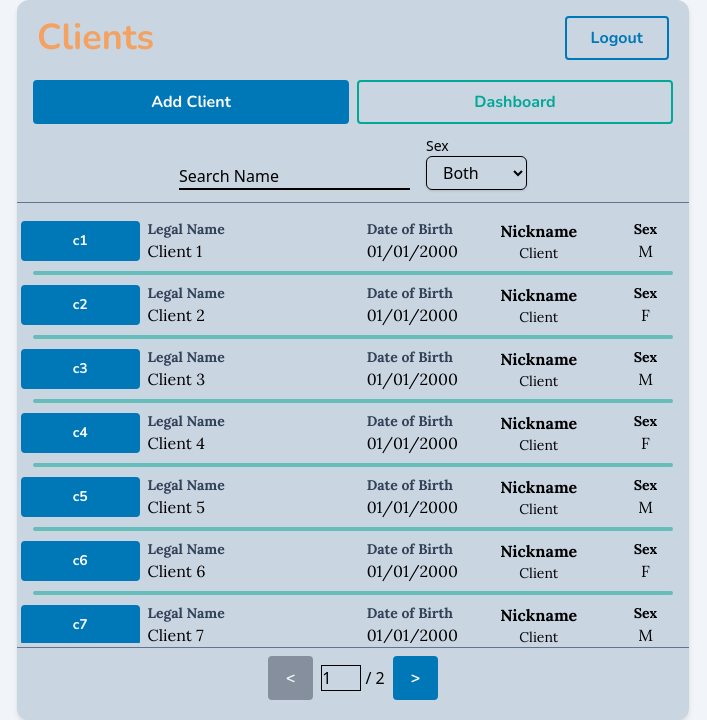
Test: View Clients List Page tests › Sex Filter tests › should filter based upon the sex filter dropdown
Expected: the button with test id "pagination-next" is shown, [393, 656, 438, 700]
Select "Female" in the dropdown showing "Both" at (476, 173), box [426, 156, 527, 190]
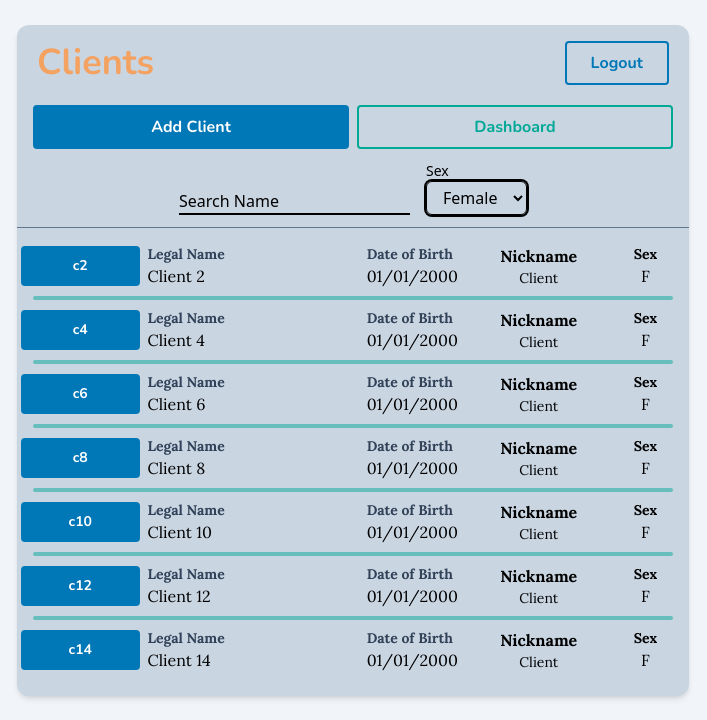
Expected: the text "Client 2" is shown, [148, 266, 205, 286]
Now the button with test id "pagination-next" is gone
